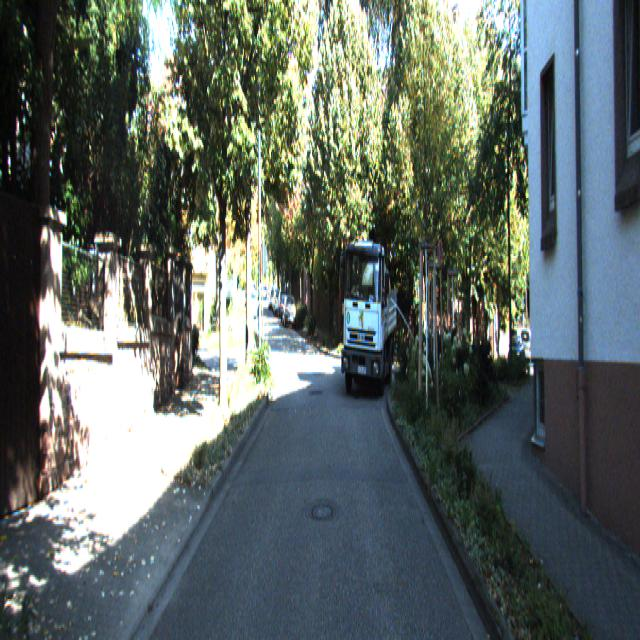Car: (341, 233, 399, 404), (283, 294, 297, 331)
